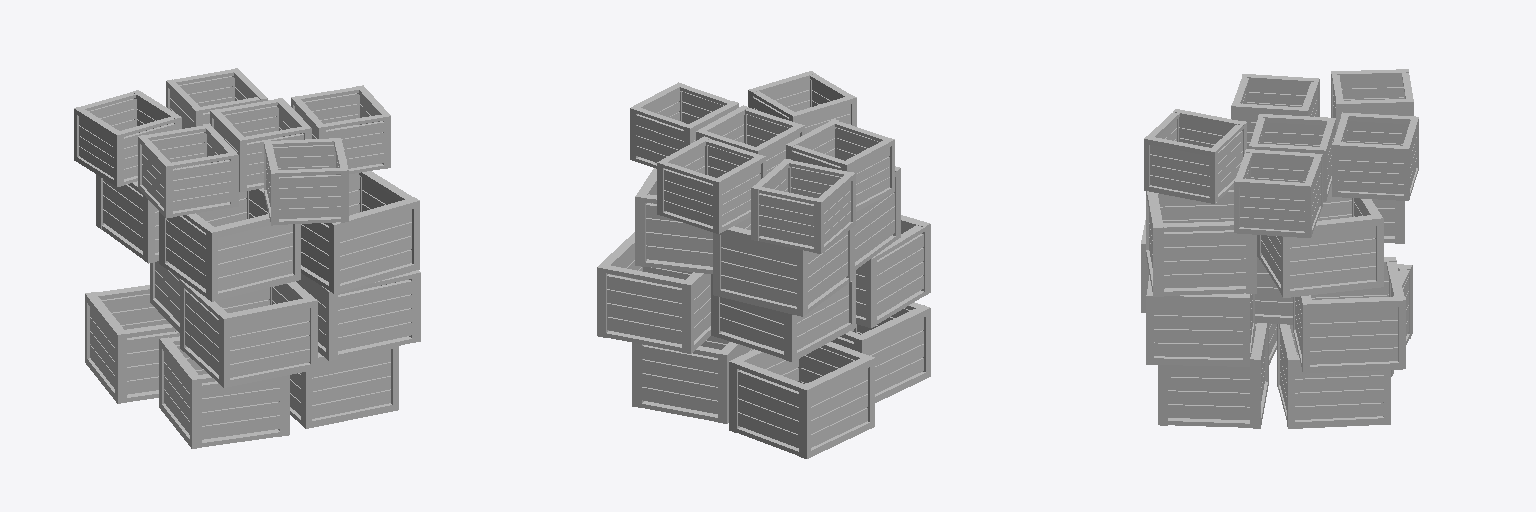
File: cratestackx+.obj
3 renders of one model, left to right at view 1: azimuth 30°, elevation 25°; view 2: azimuth 150°, elevation 25°; view 3: azimuth 270°, elevation 25°, orthographic.
Visible parts, largest first — view 1: bedx+; view 2: bedx+; view 3: bedx+.
Part boxes in pixels (x1,y1,x2,y2): bedx+: (74,68,420,448); bedx+: (597,71,930,458); bedx+: (1141,69,1418,428).
Bounding box in the file's own units: 0.9874 × 0.9942 × 0.9697.